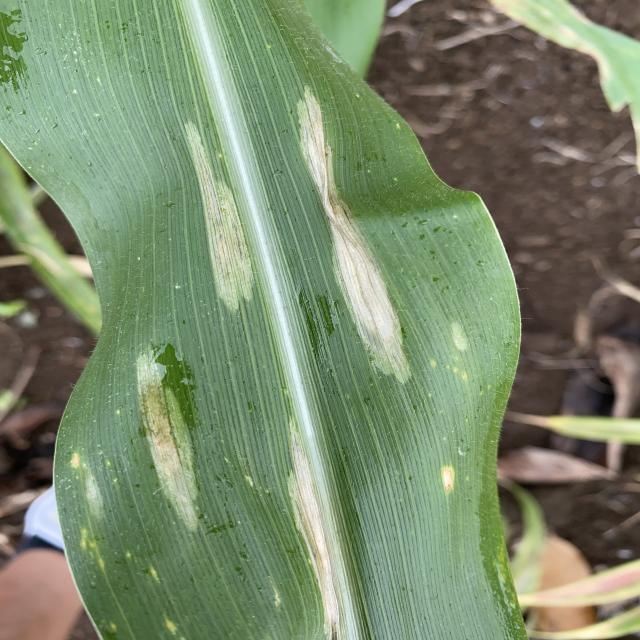Corn_Leaf_Blight: (65, 12, 493, 640)
